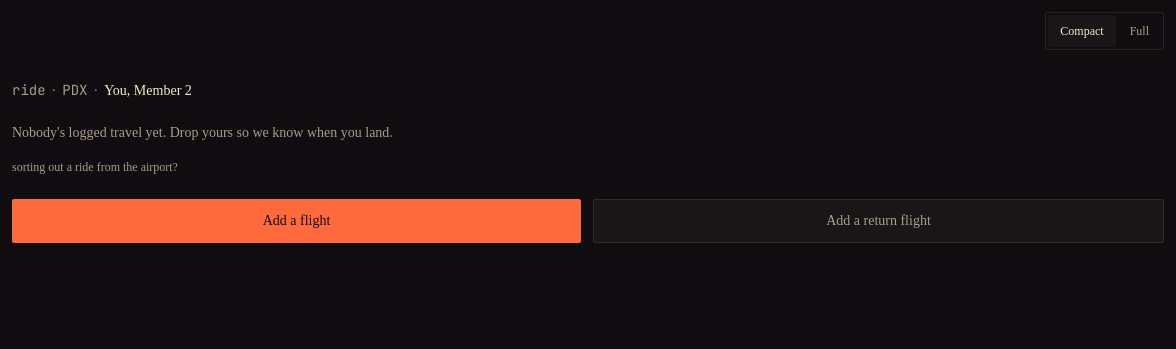
Test: ArrivalsManifest — ride groups (#581) › renders the Full ride card with the direction heading and 'added by X' provenance
Click the button "Full": (1139, 31) [1118,15,1161,47]
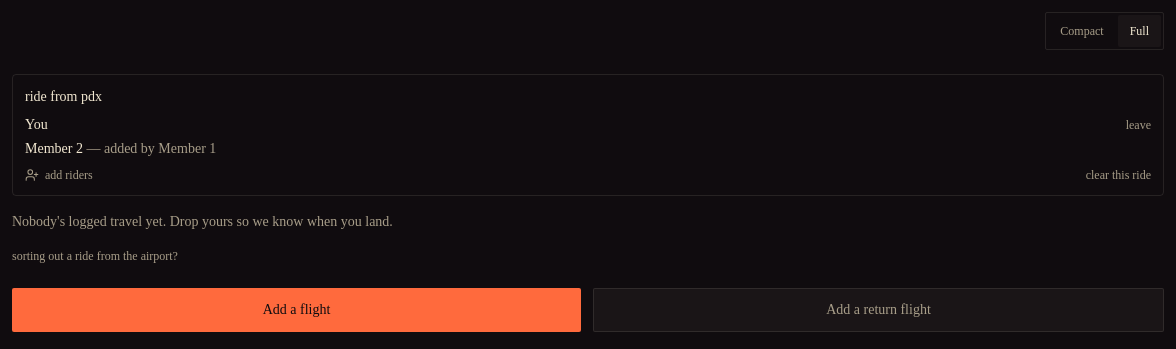
expect the heading "ride from PDX" is shown: met, box [25,89,102,104]
expect the text "— added by Member 1" is shown: met, box [83,141,216,156]
